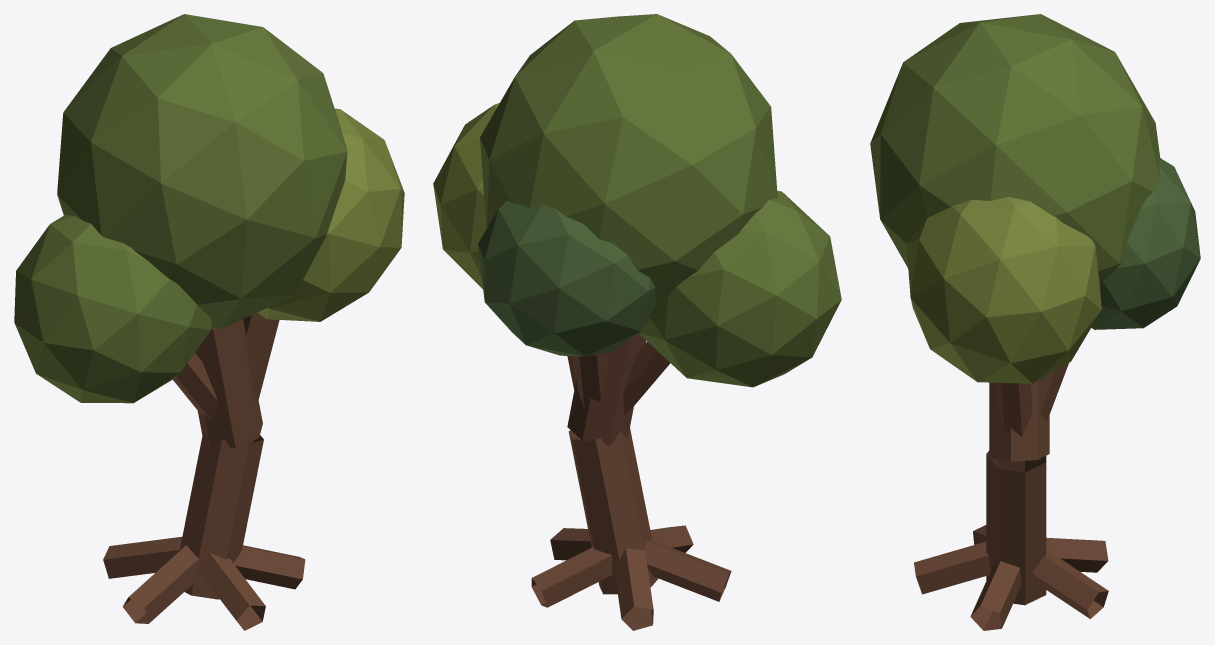
3 views of the same model, side by side, from view 1: azimuth 30°, elevation 25°; view 2: azimuth 150°, elevation 25°; view 3: azimuth 270°, elevation 25° (orthographic).
Parts seen in each view (by area): view 1: T14_生命树·圆冠; view 2: T14_生命树·圆冠; view 3: T14_生命树·圆冠.
Boxes of the visible parts, x1,y1,x2,y2 form: T14_生命树·圆冠: [14, 14, 404, 630]; T14_生命树·圆冠: [433, 14, 841, 630]; T14_生命树·圆冠: [870, 14, 1200, 630].
Size of the model in its own units: 2.19 by 3.16 by 1.67.
